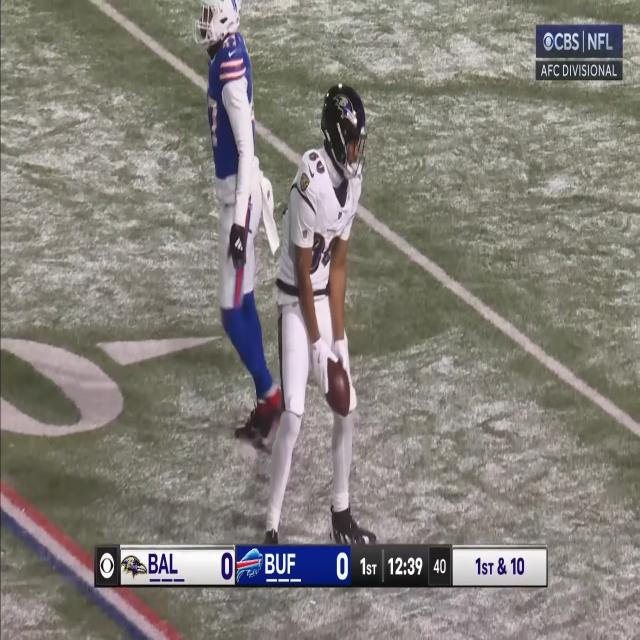Ball: (325, 351, 350, 419)
